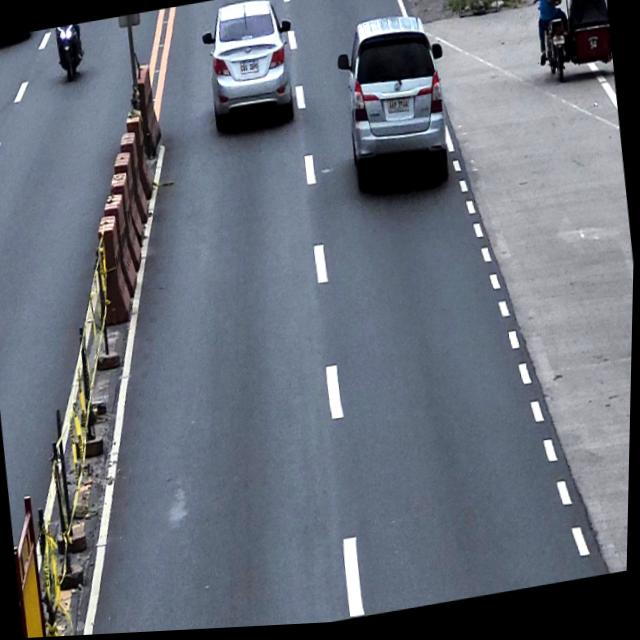Car: (330, 10, 459, 200), (196, 0, 302, 135)
License-Plate: (386, 98, 411, 119), (238, 59, 261, 78), (552, 39, 565, 51)
Motorcycle: (52, 23, 87, 84)
Tricycle: (524, 0, 615, 92)
